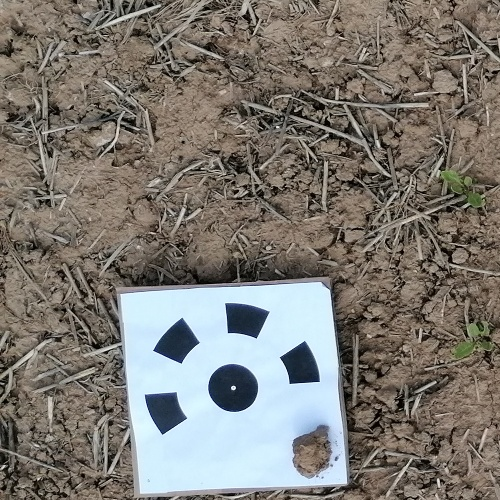beet: (440, 171, 483, 206), (455, 323, 492, 360)
